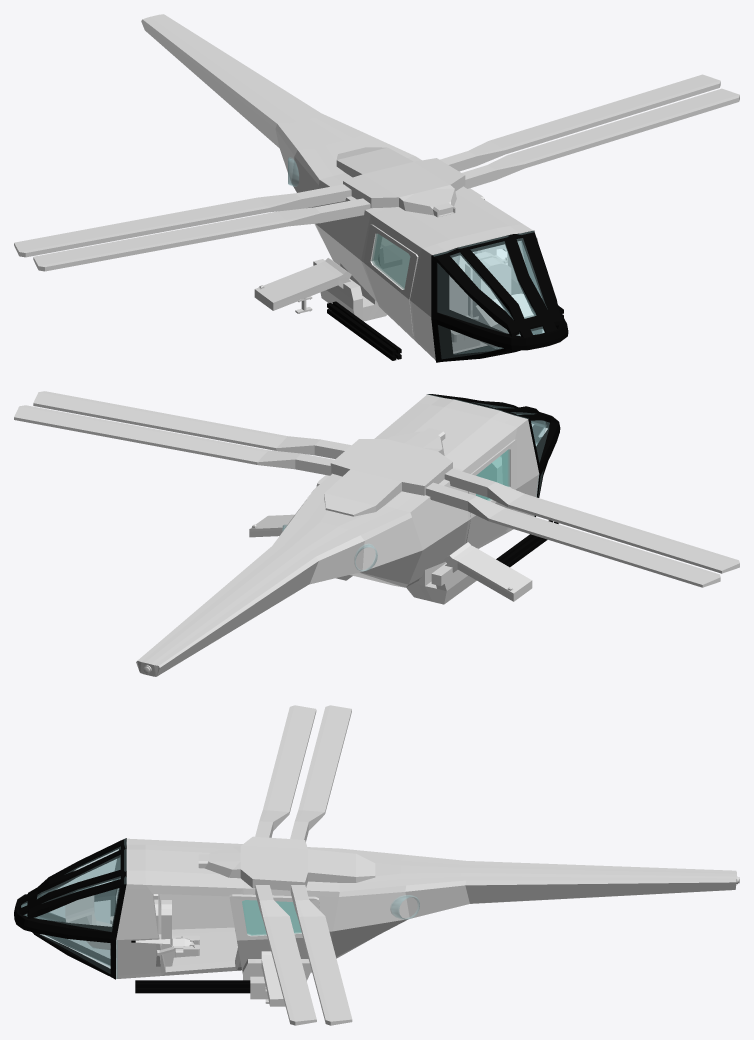
File: dragonflymoderndoorgunnerUV.fbx
The picture shows the model from 3 angles, top to bottom: view 1: azimuth 30°, elevation 25°; view 2: azimuth 150°, elevation 25°; view 3: azimuth 270°, elevation 25°; orthographic projection. The views are drawn at different scales.
Visible parts, largest first — view 1: cockpit, backblade.001, forwardblade.001, forwardblade, backblade, door_right, barrel.001, Cube.060; view 2: cockpit, backblade.001, forwardblade.001, backblade, forwardblade, door_right, Cube.060, barrel.001; view 3: cockpit, backblade, forwardblade, backblade.001, forwardblade.001, door_right, door_left, barrel, Cube.059.
Part boxes in pixels (x1,y1,x2,y2): cockpit: (141,14,568,362); backblade.001: (14,184,351,257); forwardblade.001: (33,198,372,271); forwardblade: (462,88,739,188); backblade: (440,74,720,171); door_right: (363,224,418,335); barrel.001: (327,301,401,360); Cube.060: (372,234,410,289); cockpit: (136,394,560,676); backblade.001: (425,482,720,587); forwardblade.001: (444,468,739,573); backblade: (14,405,334,475); forwardblade: (33,391,351,458); door_right: (466,439,517,547); Cube.060: (476,449,509,500); barrel.001: (496,520,558,567); cockpit: (14,836,736,1006); backblade: (290,885,352,1025); forwardblade: (255,885,316,1025); backblade.001: (290,705,351,841); forwardblade.001: (255,705,316,837); door_right: (159,894,234,929); door_left: (229,894,319,973); barrel: (135,980,250,993); Cube.059: (242,900,301,935).
Bounding box in the file's own units: 616 × 97.9 × 597.
